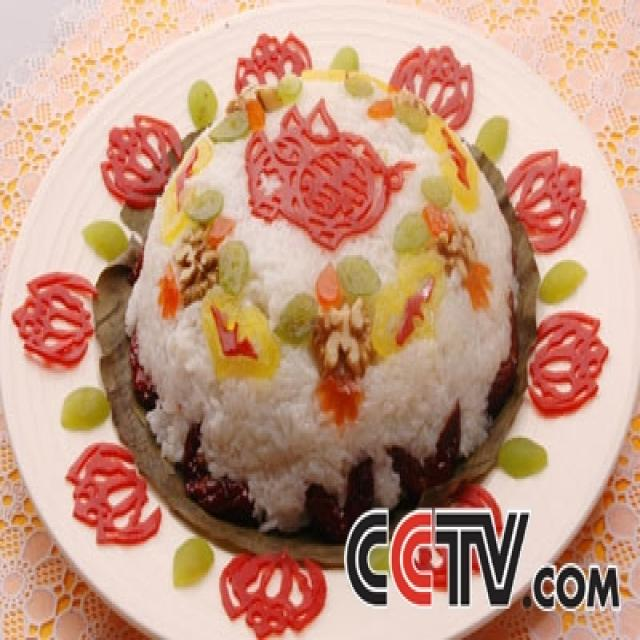米饭主食: (8, 12, 635, 626)
